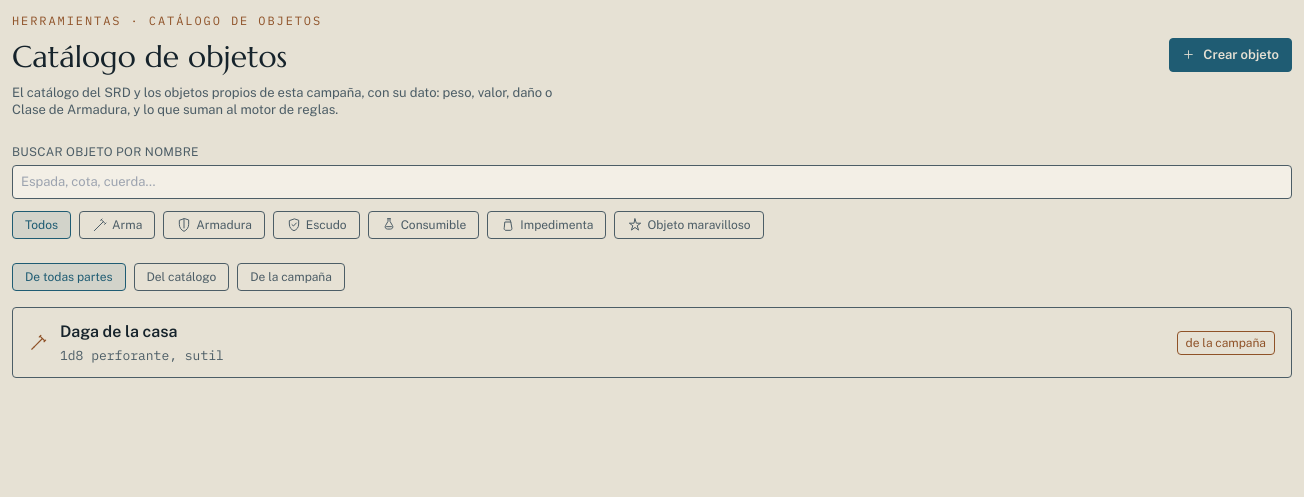
Test: CampaignItemsCatalogPage — filtros (anexo #21) › el vacío nombra los filtros cuando hay alguno activo, no solo la búsqueda
This screenshot has width=1304, height=497.
Expected: the text "Daga de la casa" is shown, [60, 322, 177, 341]
Click the button "Armadura": (214, 225) [163, 211, 265, 239]
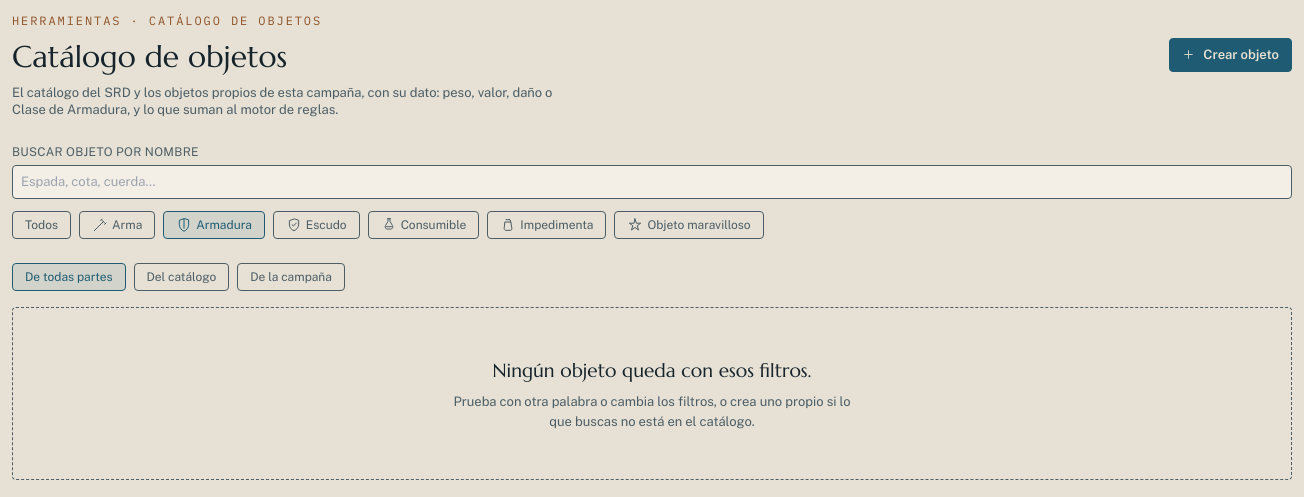
Expected: the button "Daga de la casa" is gone
Expected: the text "Ningún objeto queda con esos filtros." is shown, [492, 358, 811, 382]
